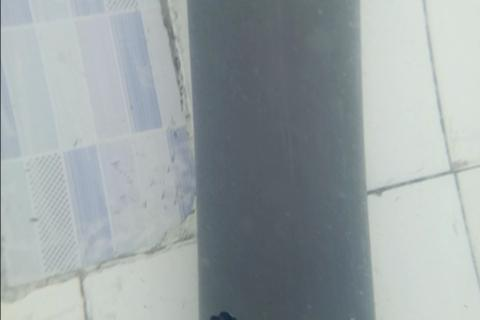kebocoran: (208, 309, 237, 320)
